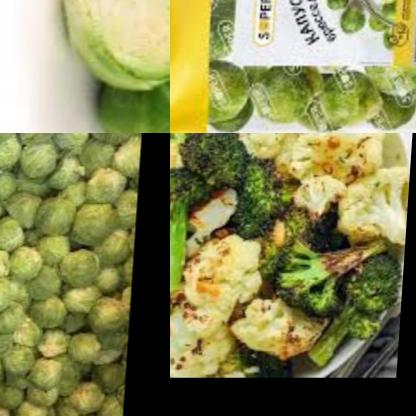broccoli: (258, 234, 409, 338), (170, 133, 252, 260)
brus capusta: (0, 133, 141, 416), (59, 0, 170, 110), (216, 70, 416, 118), (111, 49, 170, 133), (326, 0, 368, 33), (314, 0, 351, 14)
cayliflower: (172, 235, 319, 362), (249, 133, 410, 233), (170, 279, 239, 377)
